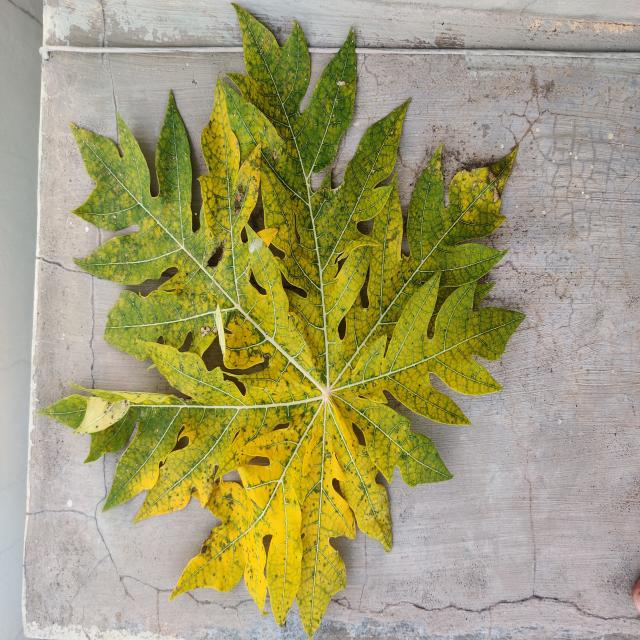papaya: (40, 8, 524, 635)
